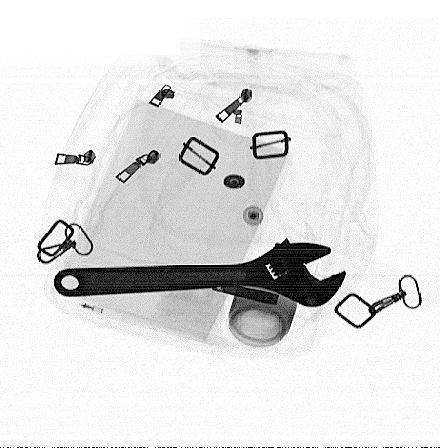Wrench: (52, 236, 348, 308)
